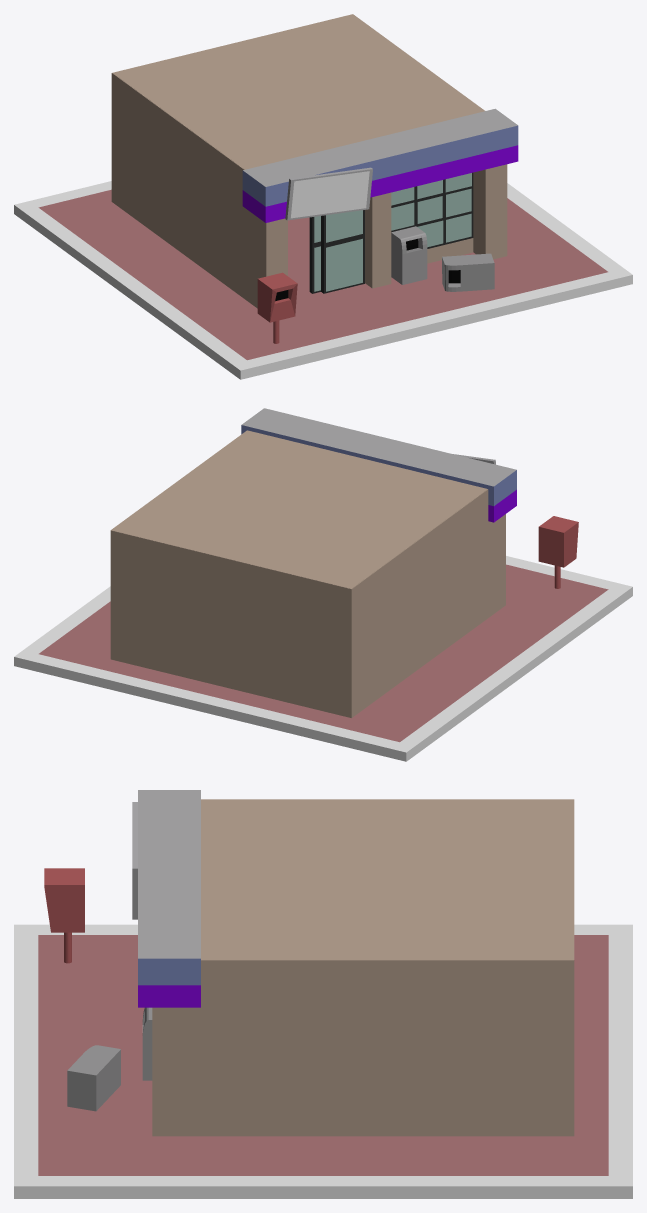
Rendered from Store2.fbx.
3 views of the same model, one above another, from view 1: azimuth 30°, elevation 25°; view 2: azimuth 150°, elevation 25°; view 3: azimuth 270°, elevation 25° (orthographic). The views are drawn at different scales.
Visible parts, largest first — view 1: Plane.001, Cube.009, Cube.008, Cube.001, Plane, Cube.002, Cube.007, Cube.011, Cube.012, Cube.003, Cube.005, Cube.010 (+3 smaller); view 2: Plane.001, Cube.010, Cube.009, Cube.008, Cube.001, Cube.004; view 3: Plane.001, Cube.011, Cube.009, Cube.001, Cube.005, Cube.004, Cube.003, Cube.002.
Part boxes in pixels (x1,y1,x2,y2): Plane.001: [14, 181, 632, 379]; Cube.009: [112, 14, 483, 169]; Cube.008: [124, 82, 287, 308]; Cube.001: [242, 108, 518, 222]; Plane: [391, 172, 473, 248]; Cube.002: [285, 167, 372, 220]; Cube.007: [321, 210, 364, 293]; Cube.011: [354, 15, 507, 259]; Cube.012: [365, 192, 391, 288]; Cube.003: [391, 226, 427, 284]; Cube.005: [442, 253, 494, 291]; Cube.010: [111, 14, 364, 210]; Plane.001: [14, 556, 632, 761]; Cube.010: [110, 521, 364, 717]; Cube.009: [112, 430, 487, 588]; Cube.008: [364, 489, 505, 708]; Cube.001: [241, 408, 516, 522]; Cube.004: [538, 516, 578, 567]; Plane.001: [14, 924, 632, 1198]; Cube.011: [152, 959, 573, 1136]; Cube.009: [201, 799, 573, 958]; Cube.001: [138, 790, 200, 1007]; Cube.005: [67, 1045, 120, 1111]; Cube.004: [44, 868, 84, 932]; Cube.003: [142, 1007, 152, 1080]; Cube.002: [132, 802, 137, 919].
Size of the model in its own units: 1087 by 384 by 1087.
